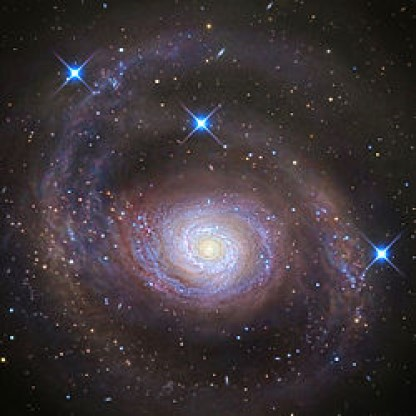Messier 94: (24, 23, 401, 400)
